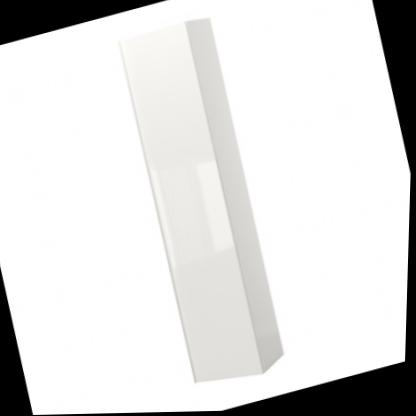Cabinet: (103, 6, 305, 401)
